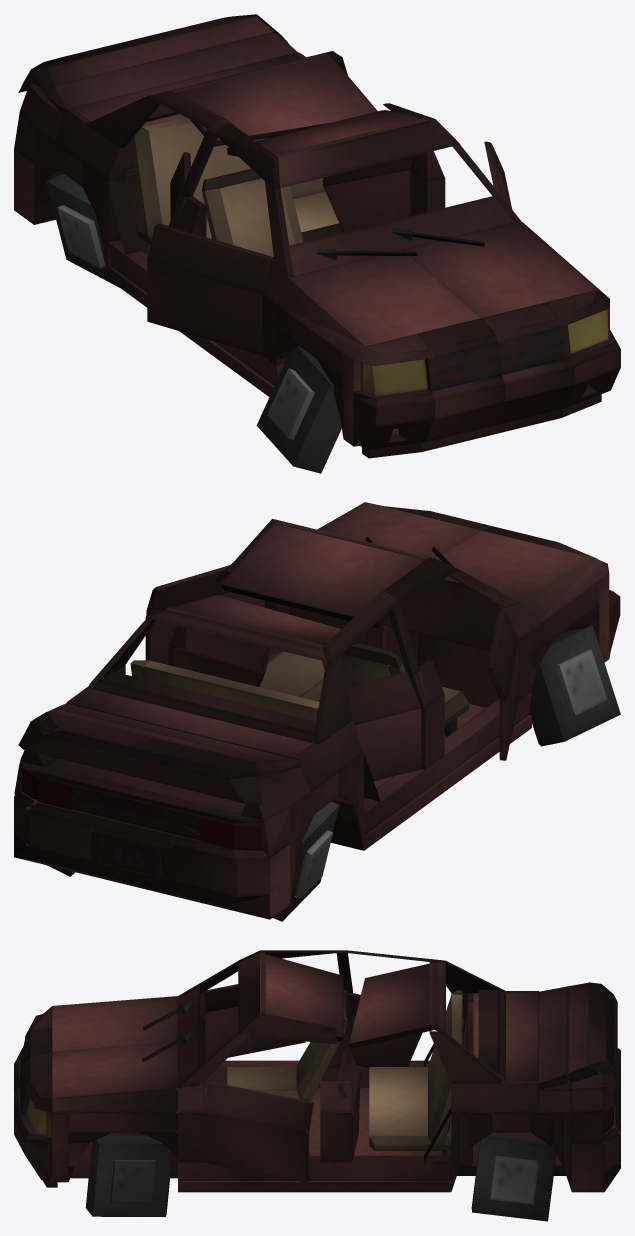
Rendered from wreckage4.obj.
The picture shows the model from 3 angles, top to bottom: view 1: azimuth 30°, elevation 25°; view 2: azimuth 150°, elevation 25°; view 3: azimuth 270°, elevation 25°; orthographic projection. The views are drawn at different scales.
Visible parts, largest first — view 1: baseModel4, baseModel24, baseModel192, baseModel186, baseModel160, baseModel96, baseModel140, baseModel175, baseModel187, baseModel162, baseModel70, baseModel185 (+58 smaller); view 2: baseModel193, baseModel4, baseModel175, baseModel147, baseModel163, baseModel5, baseModel149, baseModel96, baseModel142, baseModel24, baseModel164, baseModel165 (+51 smaller); view 3: baseModel24, baseModel4, baseModel182, baseModel2, baseModel192, baseModel115, baseModel193, baseModel174, baseModel176, baseModel68, baseModel183, baseModel142 (+58 smaller).
Boxes of the visible parts, x1,y1,x2,y2 form: baseModel4: [276, 249, 481, 361]; baseModel24: [404, 221, 609, 317]; baseModel192: [172, 53, 377, 146]; baseModel186: [147, 261, 262, 355]; baseModel160: [45, 32, 297, 114]; baseModel96: [289, 196, 514, 275]; baseModel140: [275, 118, 454, 188]; baseModel175: [256, 346, 341, 473]; baseModel187: [147, 224, 273, 294]; baseModel162: [31, 14, 281, 93]; baseModel70: [142, 117, 325, 225]; baseModel185: [323, 170, 410, 232]; baseModel193: [221, 518, 428, 627]; baseModel4: [433, 530, 608, 630]; baseModel175: [529, 625, 620, 746]; baseModel147: [18, 721, 262, 804]; baseModel163: [31, 712, 256, 779]; baseModel5: [364, 691, 531, 835]; baseModel149: [92, 671, 316, 743]; baseModel96: [381, 579, 501, 651]; baseModel142: [73, 687, 312, 758]; baseModel24: [317, 502, 480, 557]; baseModel164: [14, 833, 269, 919]; baseModel165: [172, 845, 269, 896]; baseModel24: [52, 1043, 177, 1112]; baseModel4: [52, 996, 177, 1051]; baseModel182: [203, 1113, 309, 1182]; baseModel2: [178, 1087, 451, 1192]; baseModel192: [349, 963, 434, 1048]; baseModel115: [178, 1155, 451, 1180]; baseModel193: [260, 953, 343, 1042]; baseModel174: [85, 1135, 172, 1216]; baseModel176: [471, 1134, 556, 1221]; baseModel68: [369, 1067, 451, 1145]; baseModel183: [203, 1081, 313, 1132]; baseModel142: [473, 993, 538, 1081].
Bounding box in the file's own units: 3.85 × 2.41 × 6.94.
Materials: 1 (1 with a texture image).
